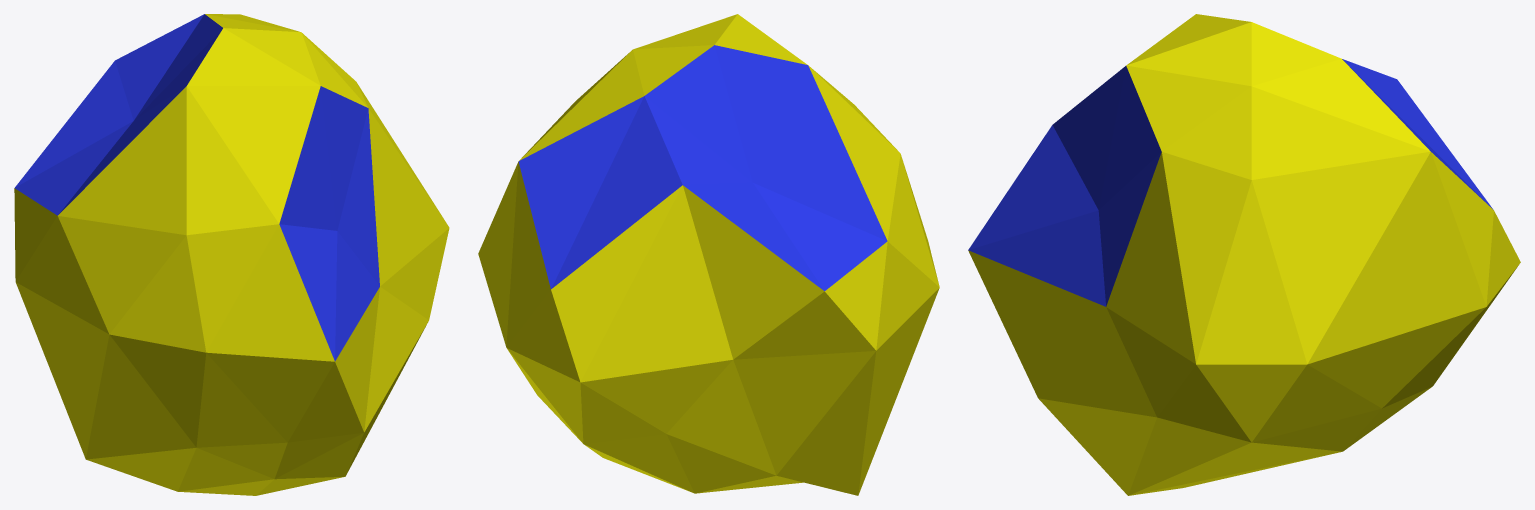
The model's file is Rock.fbx.
3 renders of one model, left to right at view 1: azimuth 30°, elevation 25°; view 2: azimuth 150°, elevation 25°; view 3: azimuth 270°, elevation 25°, orthographic. The views are drawn at different scales.
Parts seen in each view (by area): view 1: Icosphere; view 2: Icosphere; view 3: Icosphere.
Boxes of the visible parts, x1=… form: Icosphere: x1=14, y1=14, x2=449, y2=495; Icosphere: x1=478, y1=14, x2=939, y2=495; Icosphere: x1=968, y1=14, x2=1520, y2=495.
Size of the model in its own units: 257 by 286 by 307.
